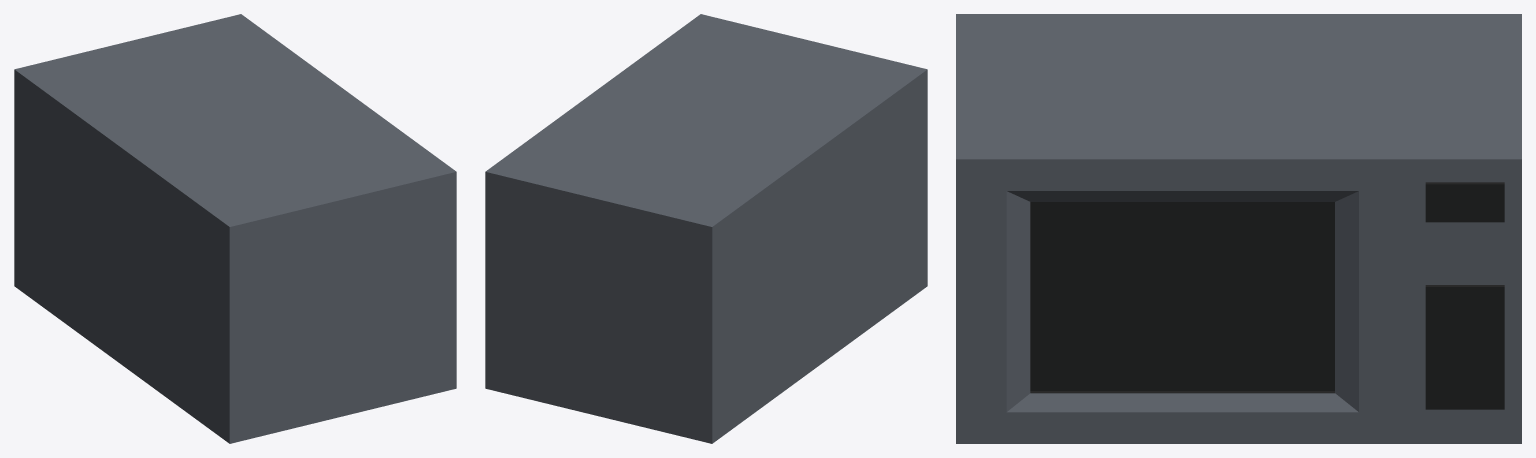
File: Microondas.fbx
The picture shows the model from 3 angles, left to right: view 1: azimuth 30°, elevation 25°; view 2: azimuth 150°, elevation 25°; view 3: azimuth 270°, elevation 25°; orthographic projection. The views are drawn at different scales.
Visible parts, largest first — view 1: Cube; view 2: Cube; view 3: Cube, Cube.002, Cube.003, Cube.001.
Part boxes in pixels (x1=…): Cube: x1=14, y1=14, x2=456, y2=443; Cube: x1=485, y1=14, x2=927, y2=443; Cube: x1=956, y1=14, x2=1521, y2=443; Cube.002: x1=1030, y1=202, x2=1334, y2=393; Cube.003: x1=1006, y1=191, x2=1358, y2=412; Cube.001: x1=1425, y1=182, x2=1504, y2=409.
Size of the model in its own units: 381 by 343 by 618.
